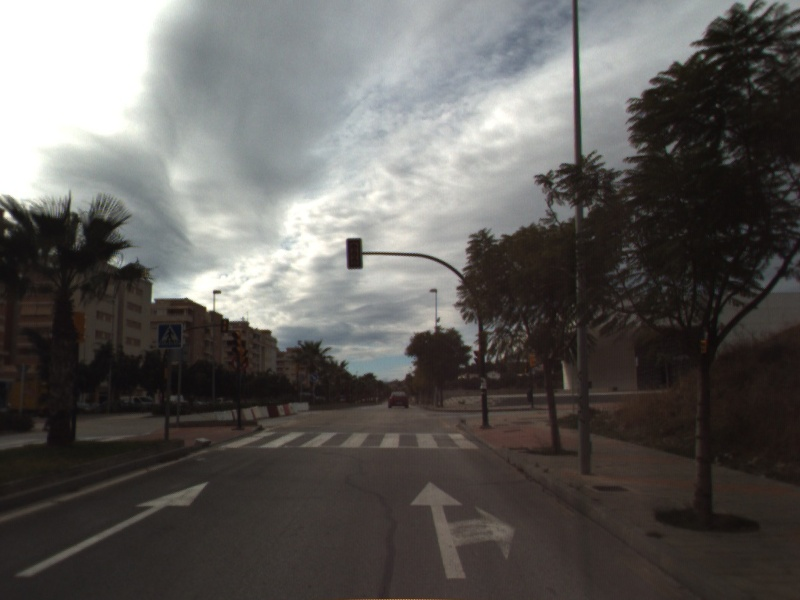STRAIGHT: (12, 479, 211, 579)
STRAIGHT_RIGHT: (407, 479, 518, 581)
